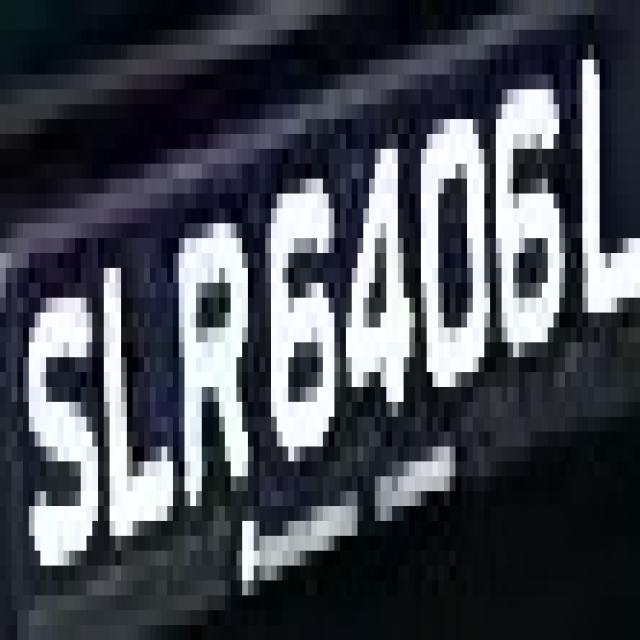0: (403, 74, 496, 417)
4: (335, 119, 415, 461)
6: (484, 29, 571, 432), (248, 164, 346, 521)
L: (104, 223, 179, 536), (571, 30, 634, 327)
R: (167, 164, 265, 580)
S: (17, 223, 104, 625)
